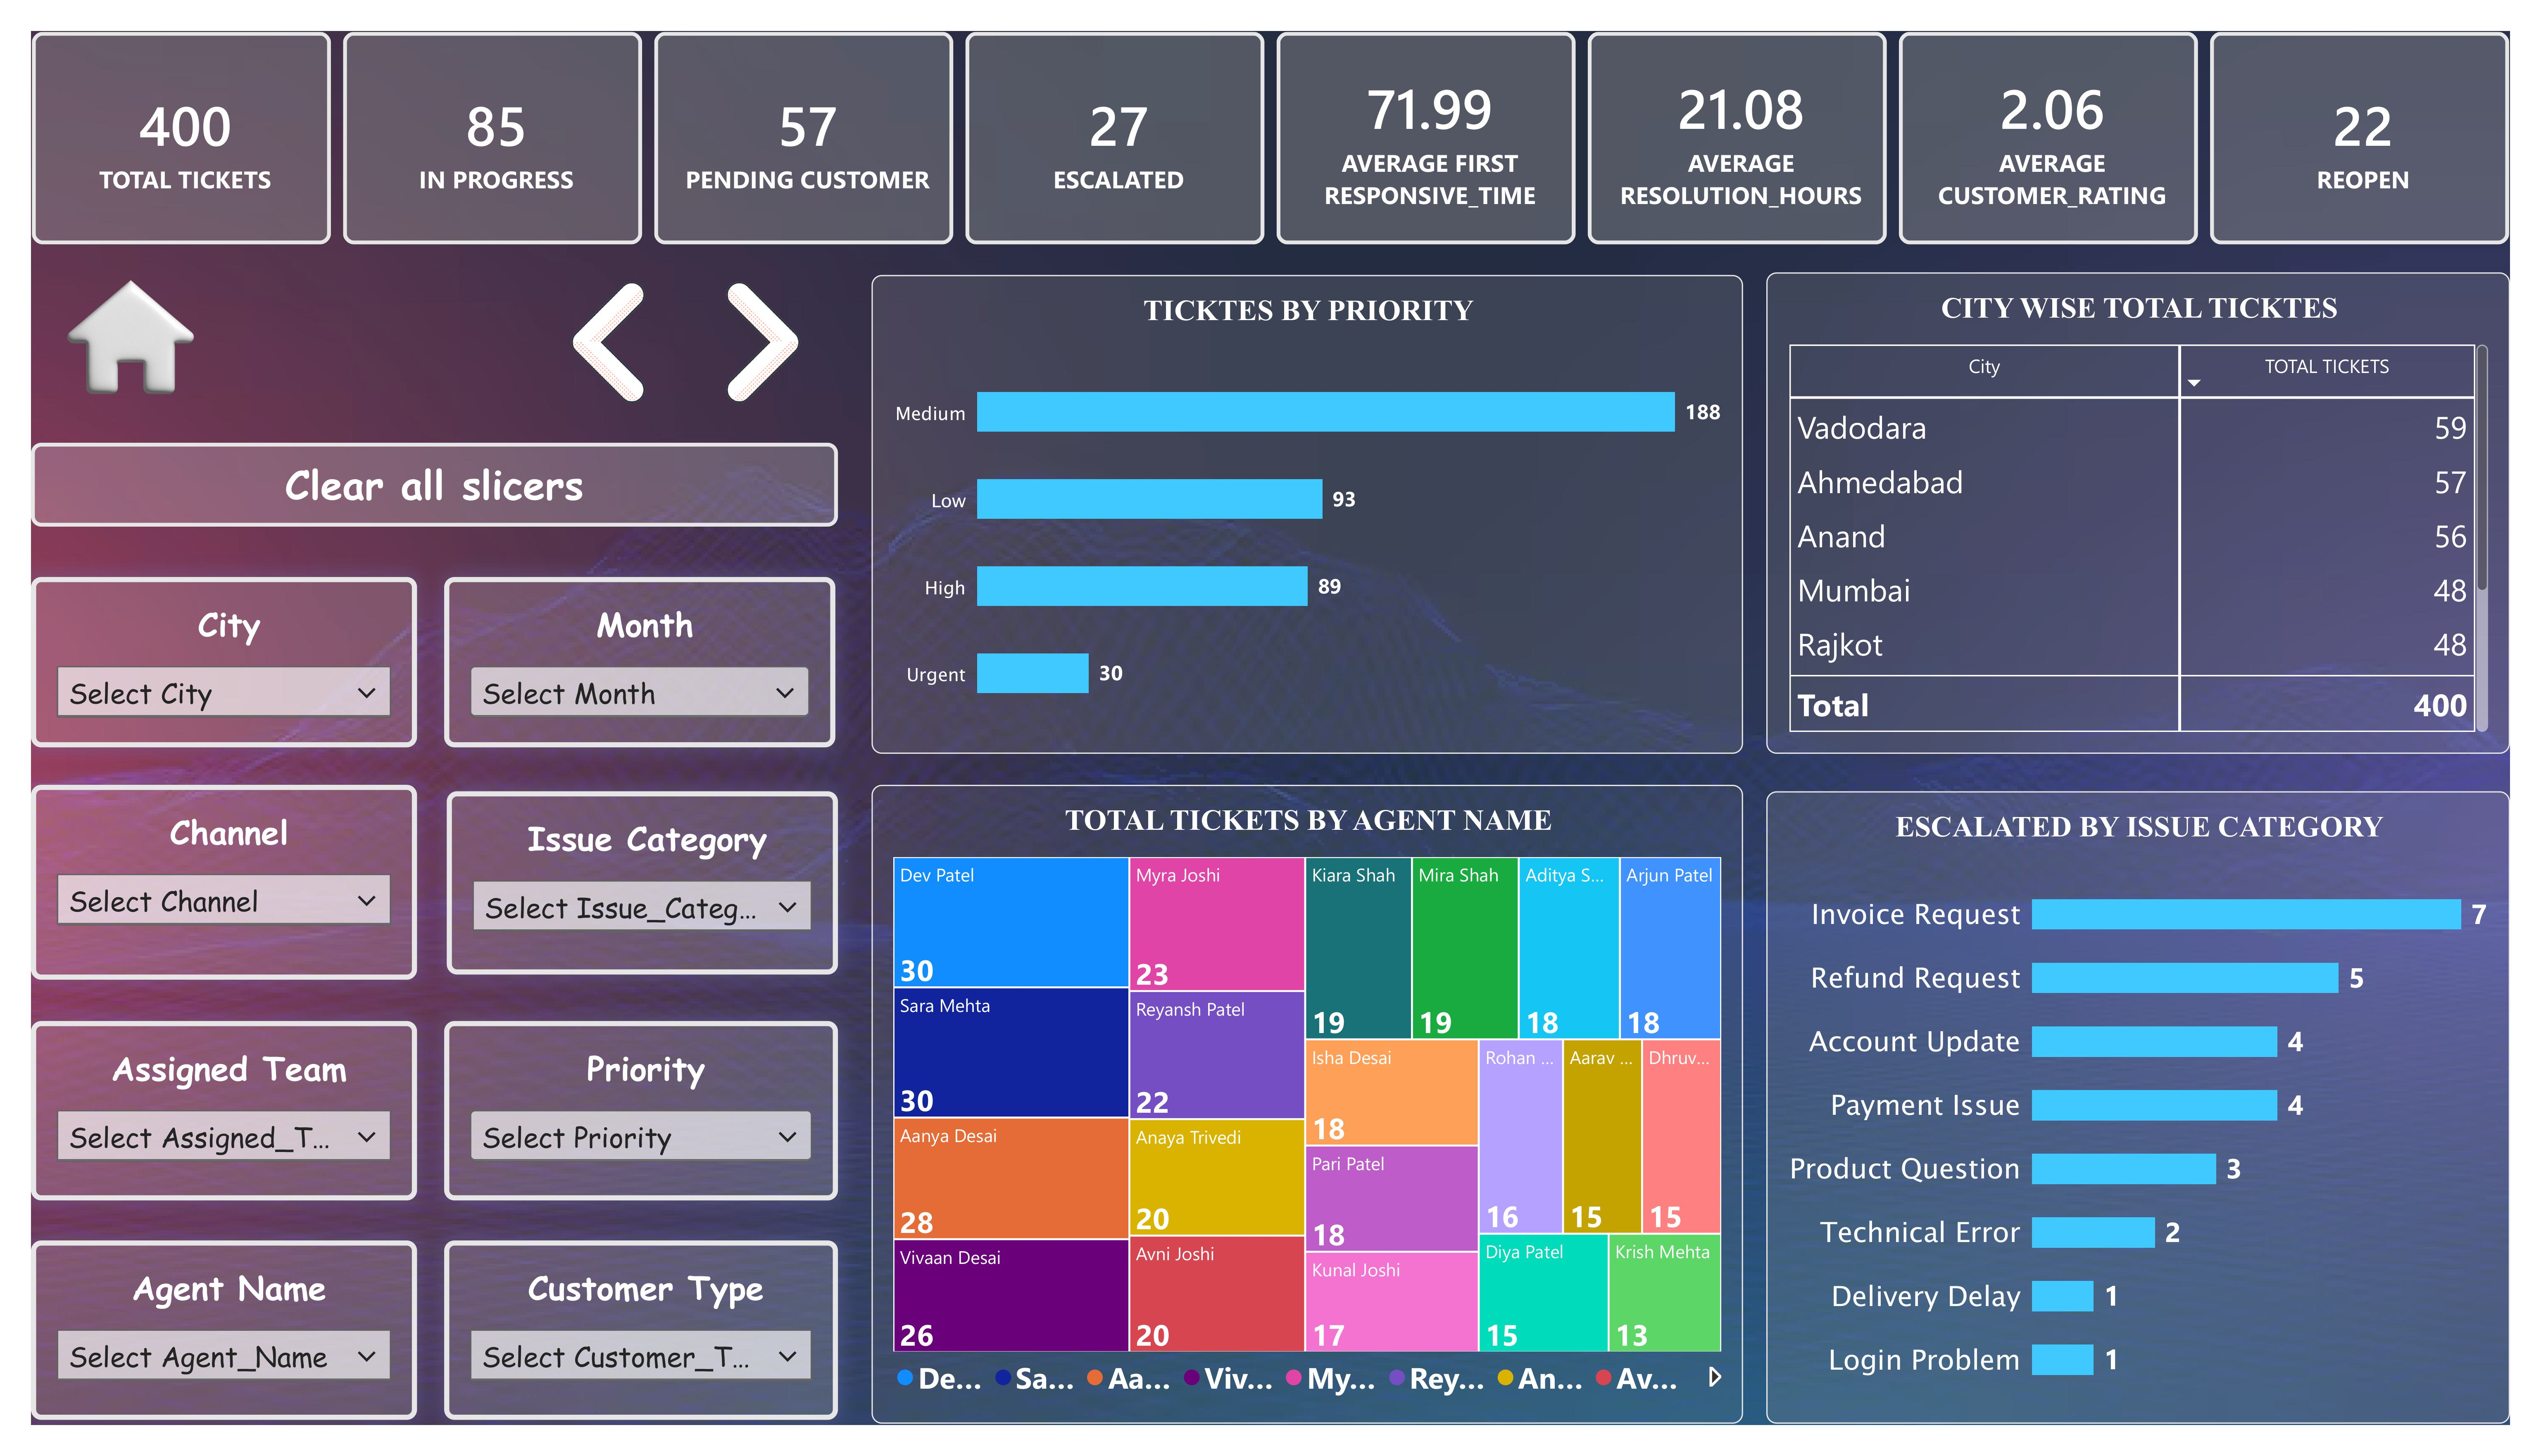

The dashboard page shown, as its layout file describes it:
{"tool":"powerbi","page":{"name":"Page 3","canvas":[1920,1080],"ordinal":2},"visuals":[{"type":"cardVisual","fields":{"Data":["_MEASURE.TOTAL_TICKETS","_MEASURE.IN_PROGRESS","_MEASURE.PENDING_CUSTOMER","_MEASURE.ESCALATED","_MEASURE.AVERAGE_RESOLUTION","_MEASURE.AVERAGE_RESOLUTION_HOURS","_MEASURE.AVERAGE_CUSTOMER_RATING","_MEASURE.RESPONSED"]},"box":[0,0,1920.4,166.1],"z":0},{"type":"tableEx","title":"CITY WISE TOTAL TICKTES","fields":{"Values":["Customer_Support_Tickets.City","_MEASURE.TOTAL_TICKETS"]},"box":[1344,186.8,576,373.6],"z":1000},{"type":"treemap","title":"TOTAL TICKETS BY AGENT NAME","fields":{"Group":["Customer_Support_Tickets.Agent_Name"],"Values":["_MEASURE.TOTAL_TICKETS"]},"box":[651.2,583.8,674.6,495.6],"z":2000},{"type":"clusteredBarChart","title":"TICKTES BY PRIORITY","fields":{"Category":["Customer_Support_Tickets.Priority"],"Y":["_MEASURE.TOTAL_TICKETS"]},"box":[651.2,189.4,674.6,371],"z":3000},{"type":"clusteredBarChart","title":"ESCALATED BY ISSUE CATEGORY","fields":{"Category":["Customer_Support_Tickets.Issue_Category"],"Y":["_MEASURE.ESCALATED"]},"box":[1344,589,576,490.4],"z":4000},{"type":"actionButton","box":[0,319.1,625.3,64.9],"z":5000},{"type":"listSlicer","fields":{"Values":["Customer_Support_Tickets.City"]},"box":[0,422.9,298.9,132.1],"z":5000,"group":"g1"},{"type":"group","id":"g1","title":"Group 1","box":[0,422.9,625.3,656.4],"z":6000},{"type":"listSlicer","fields":{"Values":["Customer_Support_Tickets.Channel"]},"box":[0,583.9,298.9,151.4],"z":6000,"group":"g1"},{"type":"group","id":"g2","title":"Group 2","box":[-1.3,180.8,628.3,112.1],"z":6001},{"type":"listSlicer","title":"Assigned Team","fields":{"Values":["Customer_Support_Tickets.Assigned_Team"]},"box":[0,766.5,298.9,139.3],"z":7000,"group":"g1"},{"type":"listSlicer","title":"Issue Category","fields":{"Values":["Customer_Support_Tickets.Issue_Category"]},"box":[322.2,588.7,303.1,141.7],"z":8000,"group":"g1"},{"type":"listSlicer","title":"Month","fields":{"Values":["Customer_Support_Tickets.Created_Date.Variation.Date Hierarchy.Month"]},"box":[320.1,422.9,303.1,132.1],"z":9000,"group":"g1"},{"type":"image","box":[-1.3,180.8,155.7,112.1],"z":10000,"group":"g2"},{"type":"listSlicer","title":"Priority","fields":{"Values":["Customer_Support_Tickets.Priority"]},"box":[320.1,766.5,305.2,139.3],"z":10000,"group":"g1"},{"type":"image","box":[507,189,119.9,103.8],"z":11000,"group":"g2"},{"type":"listSlicer","title":"Agent Name","fields":{"Values":["Customer_Support_Tickets.Agent_Name"]},"box":[0,937,298.9,139.3],"z":11000,"group":"g1"},{"type":"listSlicer","title":"Customer Type","fields":{"Values":["Customer_Support_Tickets.Customer_Type"]},"box":[320.1,937,305.2,139.3],"z":12000,"group":"g1"},{"type":"image","box":[387.1,189,119.9,103.8],"z":13000,"group":"g2"}]}

Visuals, with their boxes on the page's 1920x1080 design canvas (x1, y1, x2, y2). These are canvas units, not pixel positions in the 2541x1456 screenshot, which may show the page scaled, cropped or inside an application window:
cardVisual - _MEASURE.TOTAL_TICKETS x _MEASURE.IN_PROGRESS: crop(0, 0, 1920, 166)
"CITY WISE TOTAL TICKTES" tableEx: crop(1344, 187, 1920, 560)
"TOTAL TICKETS BY AGENT NAME" treemap: crop(651, 584, 1326, 1079)
"TICKTES BY PRIORITY" clusteredBarChart: crop(651, 189, 1326, 560)
"ESCALATED BY ISSUE CATEGORY" clusteredBarChart: crop(1344, 589, 1920, 1079)
actionButton: crop(0, 319, 625, 384)
listSlicer - Customer_Support_Tickets.City: crop(0, 423, 299, 555)
"Group 1" group: crop(0, 423, 625, 1079)
listSlicer - Customer_Support_Tickets.Channel: crop(0, 584, 299, 735)
"Group 2" group: crop(-1, 181, 627, 293)
"Assigned Team" listSlicer: crop(0, 766, 299, 906)
"Issue Category" listSlicer: crop(322, 589, 625, 730)
"Month" listSlicer: crop(320, 423, 623, 555)
image: crop(-1, 181, 154, 293)
"Priority" listSlicer: crop(320, 766, 625, 906)
image: crop(507, 189, 627, 293)
"Agent Name" listSlicer: crop(0, 937, 299, 1076)
"Customer Type" listSlicer: crop(320, 937, 625, 1076)
image: crop(387, 189, 507, 293)
